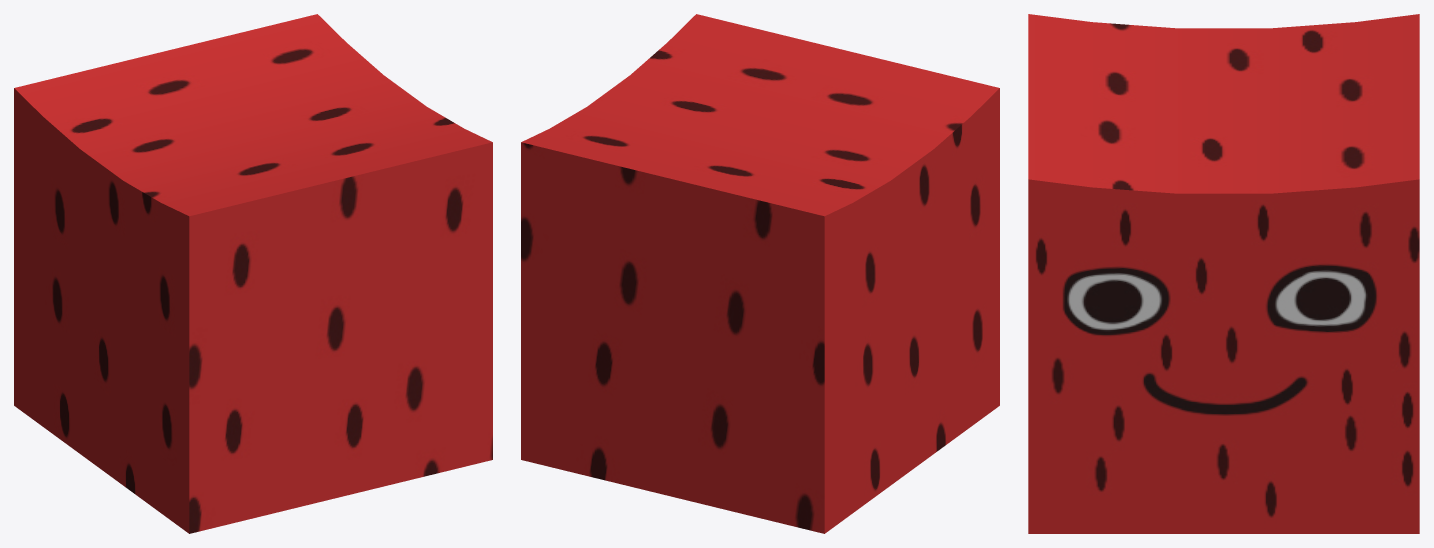
File: strawberry.fbx
3 renders of one model, left to right at view 1: azimuth 30°, elevation 25°; view 2: azimuth 150°, elevation 25°; view 3: azimuth 270°, elevation 25°, orthographic. The views are drawn at different scales.
Visible parts, largest first — view 1: Cube.002; view 2: Cube.002; view 3: Cube.002.
Part boxes in pixels (bbox=[...]): Cube.002: bbox=[14, 14, 492, 533]; Cube.002: bbox=[521, 14, 999, 533]; Cube.002: bbox=[1028, 14, 1419, 533].
Bounding box in the file's own units: 200 × 200 × 200.
1 material, 1 textured.
